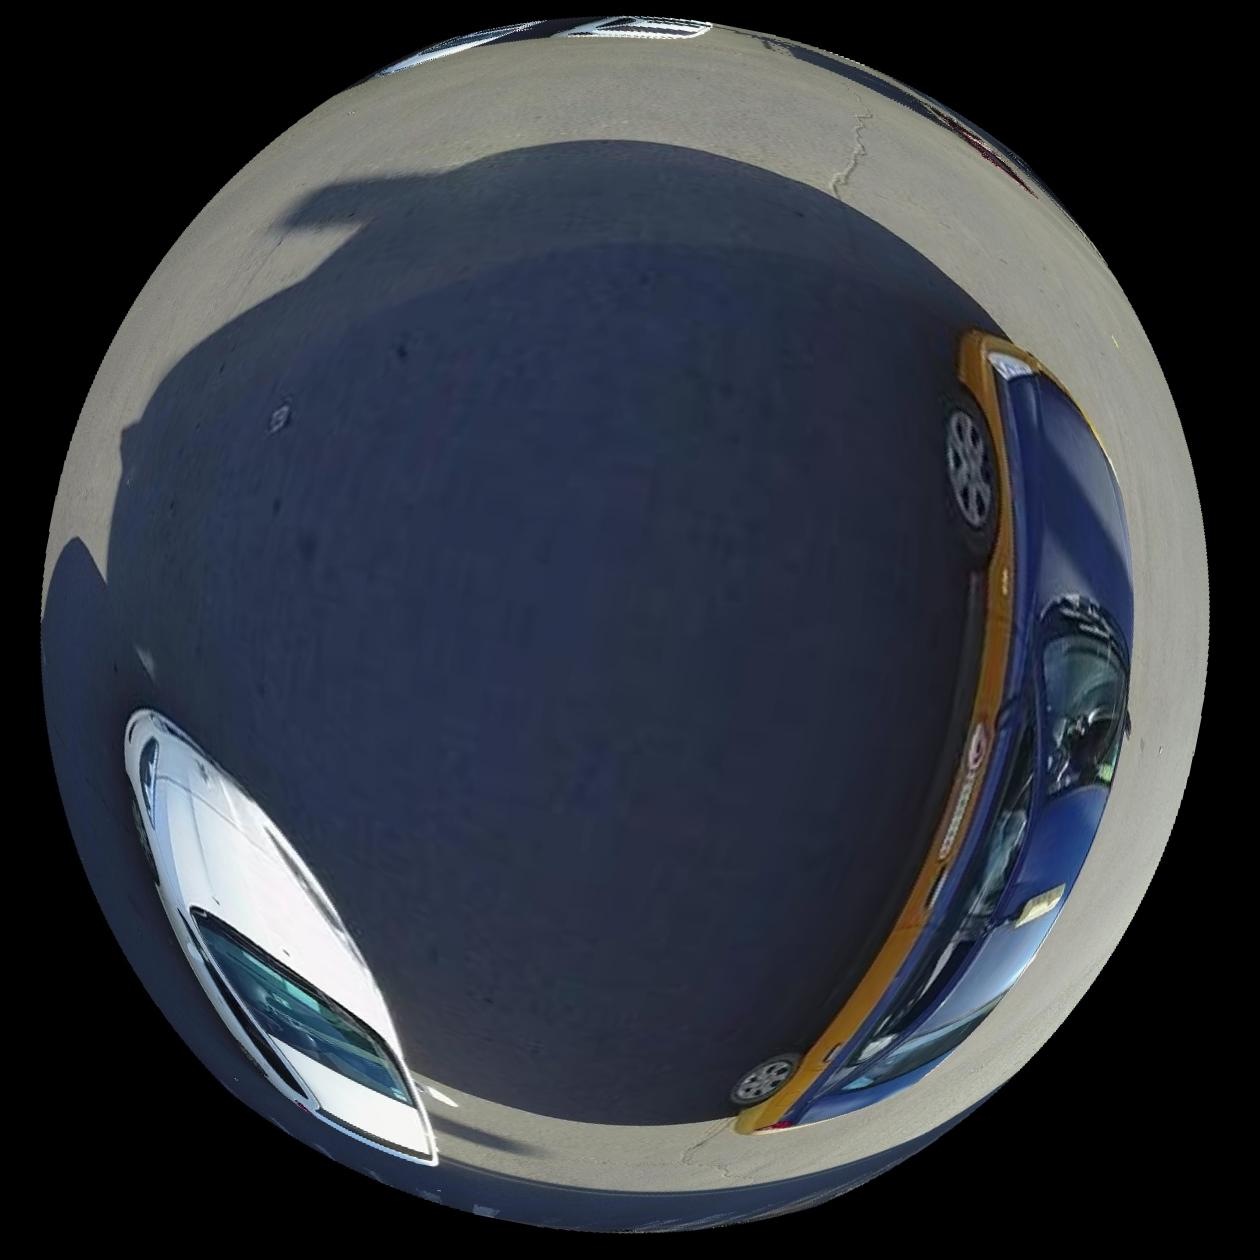cars: (728, 328, 1136, 1137), (121, 709, 434, 1166), (358, 19, 536, 80), (551, 13, 711, 37)
